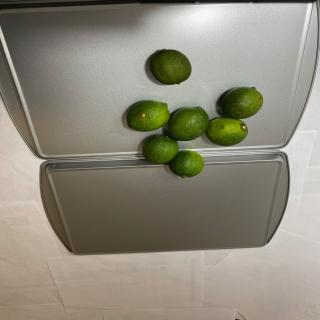Chilli: (125, 48, 264, 178)
Lemon: (150, 48, 192, 85), (168, 106, 209, 141), (126, 100, 170, 132), (221, 86, 263, 119), (205, 117, 248, 146), (142, 134, 179, 164), (169, 150, 204, 178)
